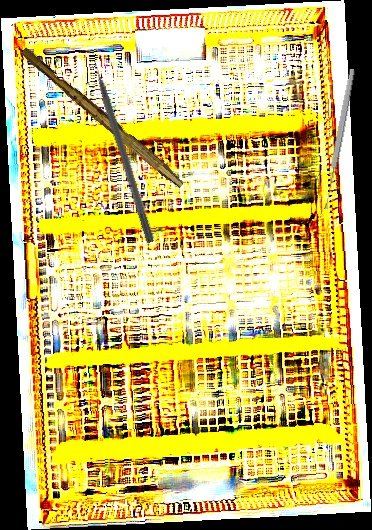Pusher: (87, 47, 157, 244)
Scalpel Handle: (17, 46, 189, 189)
Surgical Spoon: (321, 68, 357, 210)
